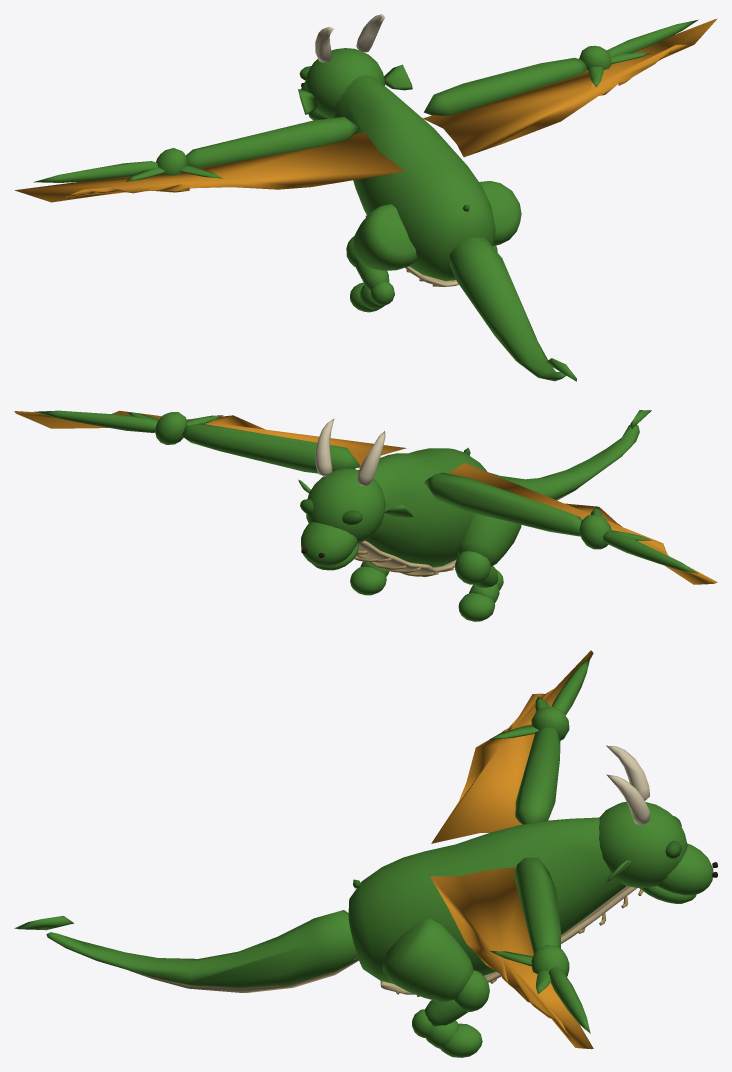
Rendered from winged.glb.
3 views of the same model, one above another, from view 1: azimuth 30°, elevation 25°; view 2: azimuth 150°, elevation 25°; view 3: azimuth 270°, elevation 25° (orthographic). The views are drawn at different scales.
Visible parts, largest first — view 1: Body.001, Wing1, Wing-1, Tail, WingTip1, WingTip-1; view 2: Body.001, Wing1, Wing-1, WingTip-1, WingTip1, Tail; view 3: Body.001, Tail, Wing-1, Wing1, WingTip-1, WingTip1.
Part boxes in pixels (box(x1,y1,x2,y2)): Body.001: box(298, 14, 521, 312); Wing1: box(178, 117, 404, 190); Wing-1: box(423, 57, 623, 157); Tail: box(449, 237, 576, 381); WingTip1: box(15, 148, 222, 202); WingTip-1: box(579, 18, 717, 87); Body.001: box(298, 418, 521, 621); Wing1: box(423, 463, 620, 536); Wing-1: box(181, 415, 406, 473); WingTip-1: box(14, 410, 223, 444); WingTip1: box(579, 506, 717, 584); Tail: box(488, 410, 651, 500); Body.001: box(348, 745, 717, 1057); Tail: box(14, 910, 358, 992); Wing-1: box(430, 857, 561, 983); Wing1: box(431, 727, 560, 843); WingTip-1: box(489, 945, 593, 1049); WingTip1: box(489, 650, 593, 743).
Size of the model in its own units: 1.39 by 0.4289 by 1.03.
